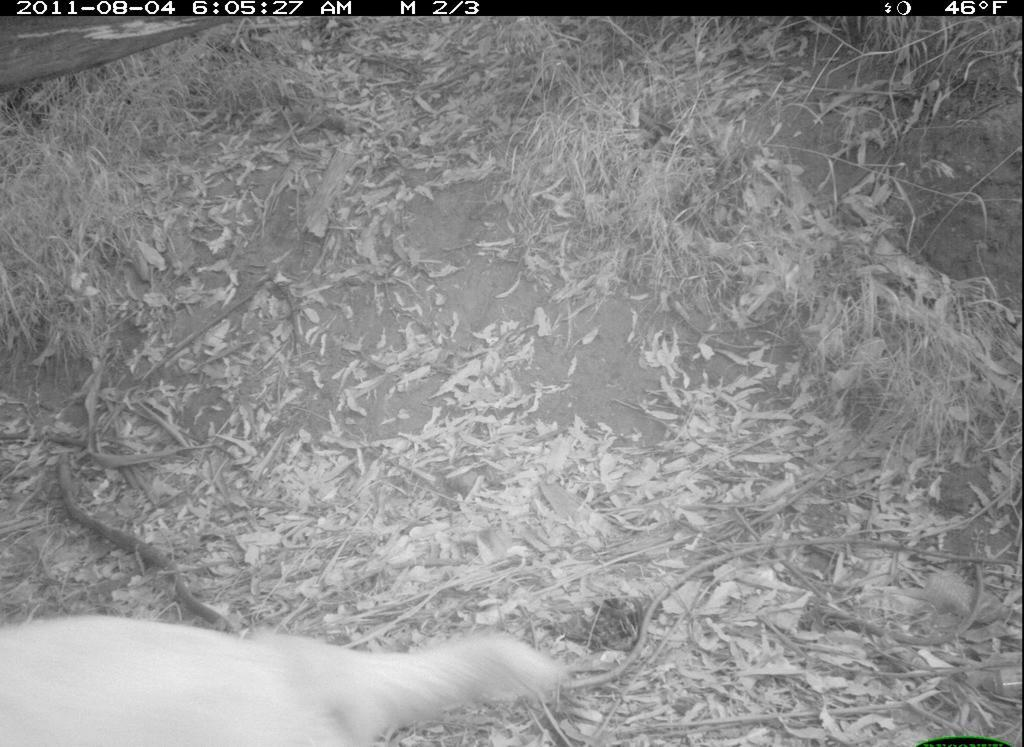dog: (1, 611, 578, 747)
